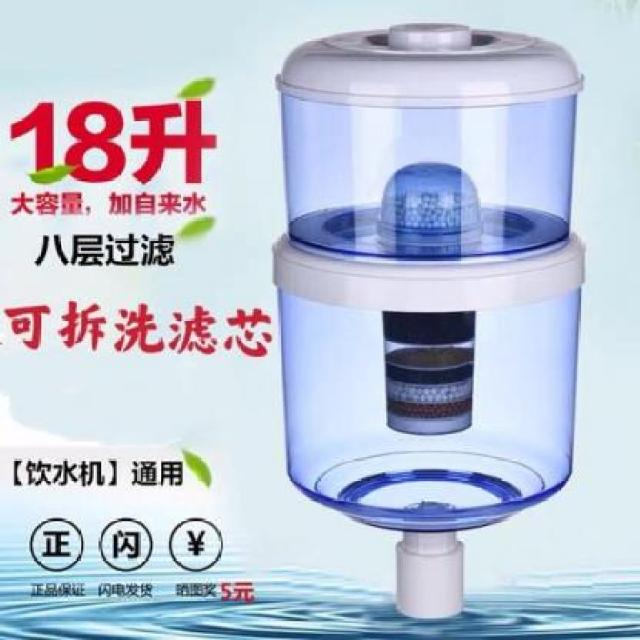coolerbottle: (263, 14, 596, 537)
